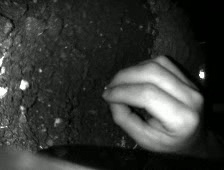corn: (17, 77, 31, 91), (103, 84, 111, 91)
